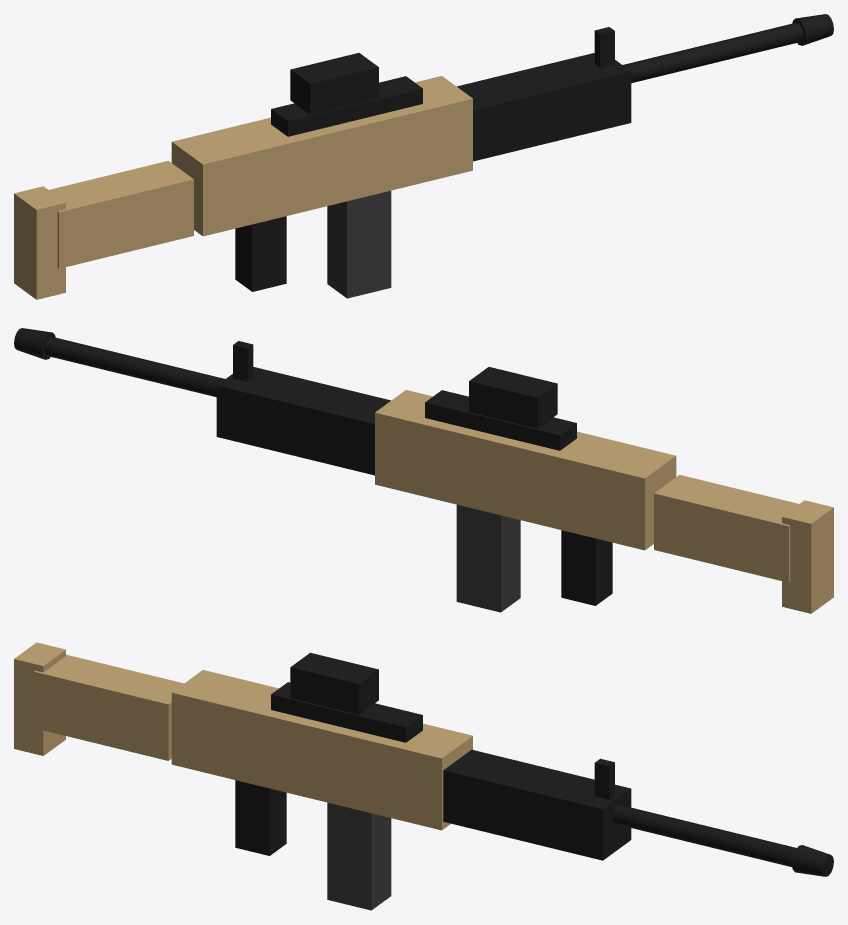
The model's file is scar.glb.
3 views of the same model, one above another, from view 1: azimuth 30°, elevation 25°; view 2: azimuth 150°, elevation 25°; view 3: azimuth 330°, elevation 25° (orthographic).
Parts seen in each view (by area): view 1: SCAR; view 2: SCAR; view 3: SCAR.
Boxes of the visible parts, x1,y1,x2,y2 form: SCAR: (14, 14, 833, 299); SCAR: (14, 328, 833, 613); SCAR: (14, 642, 833, 910).
Size of the model in its own units: 3.27 by 0.87 by 0.22.
